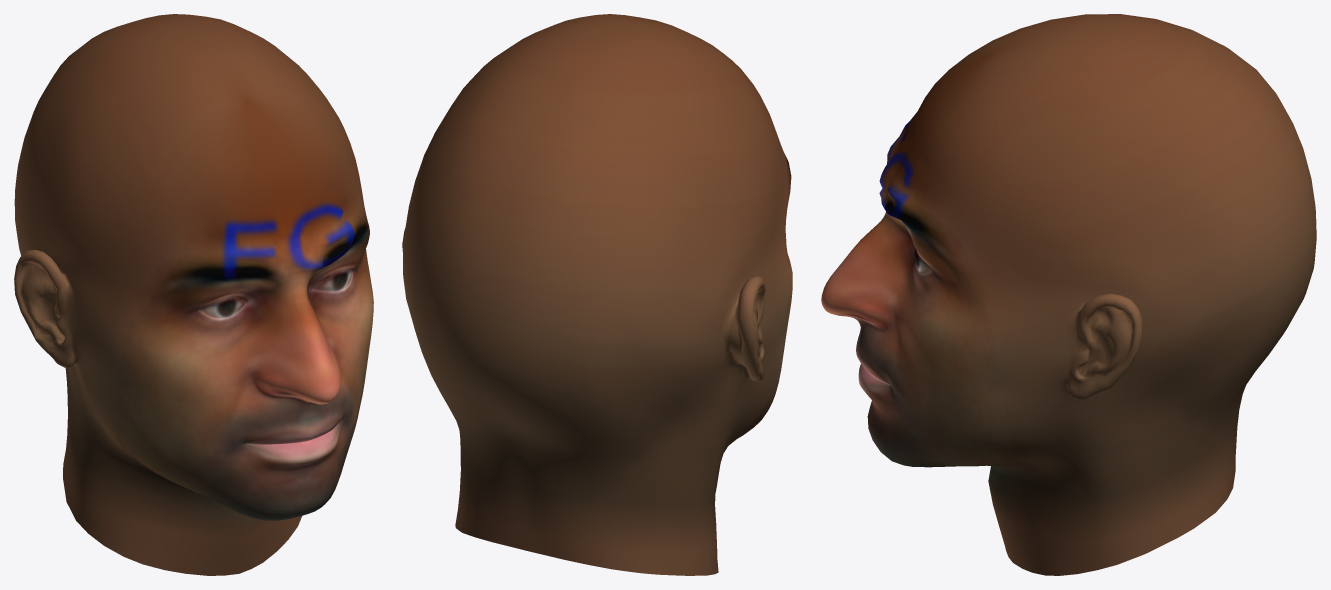
Rendered from avg_anyrace_male_04.obj.
3 renders of one model, left to right at view 1: azimuth 30°, elevation 25°; view 2: azimuth 150°, elevation 25°; view 3: azimuth 270°, elevation 25°, orthographic. The views are drawn at different scales.
Parts seen in each view (by area): view 1: HeadHires; view 2: HeadHires; view 3: HeadHires.
Boxes of the visible parts, left/top/right/bottom form: HeadHires: left=14, top=14, right=373, bottom=575; HeadHires: left=402, top=14, right=792, bottom=575; HeadHires: left=821, top=14, right=1316, bottom=575.
Size of the model in its own units: 190 by 283 by 243.
Materials: 3 (3 with a texture image).
